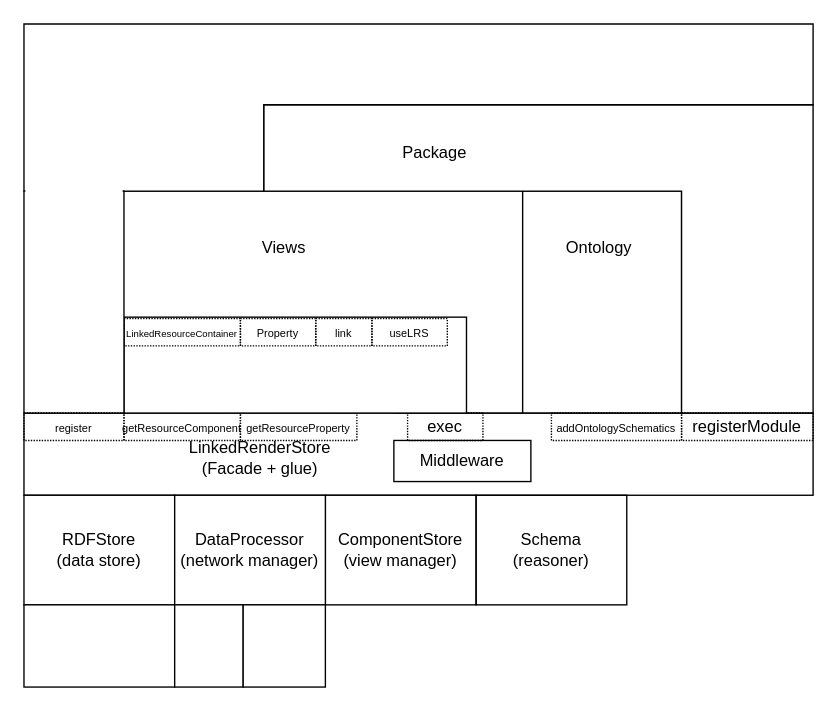
The diagram is 837 pixels wide and 711 high, and some of its shapes have lost their labels. The box of each missing label's shape, as (x1, y1, x2, y2) in pixels:
Application: (23, 23, 813, 191)
Fetcher: (173, 603, 243, 687)
Linked Delta: (242, 603, 325, 687)
RDFLib: (23, 603, 175, 687)
View API's (Components, hooks): (123, 316, 466, 413)
